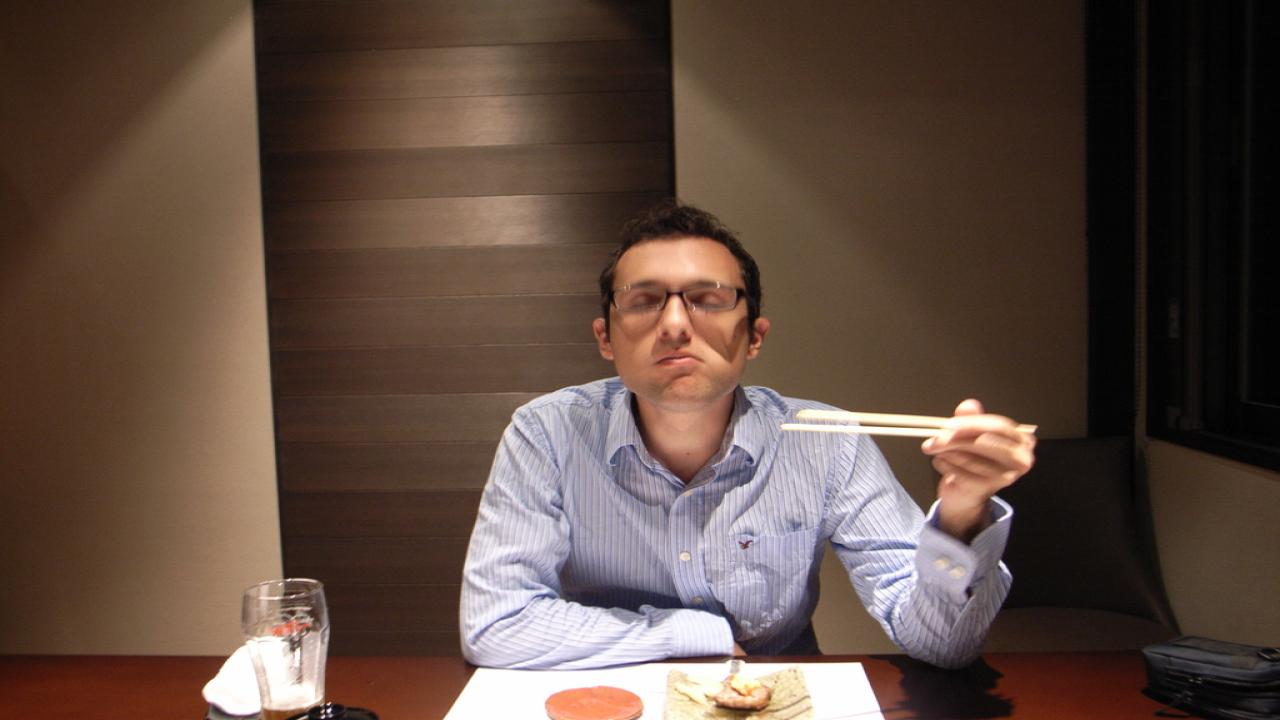chopstick: (780, 409, 958, 431)
